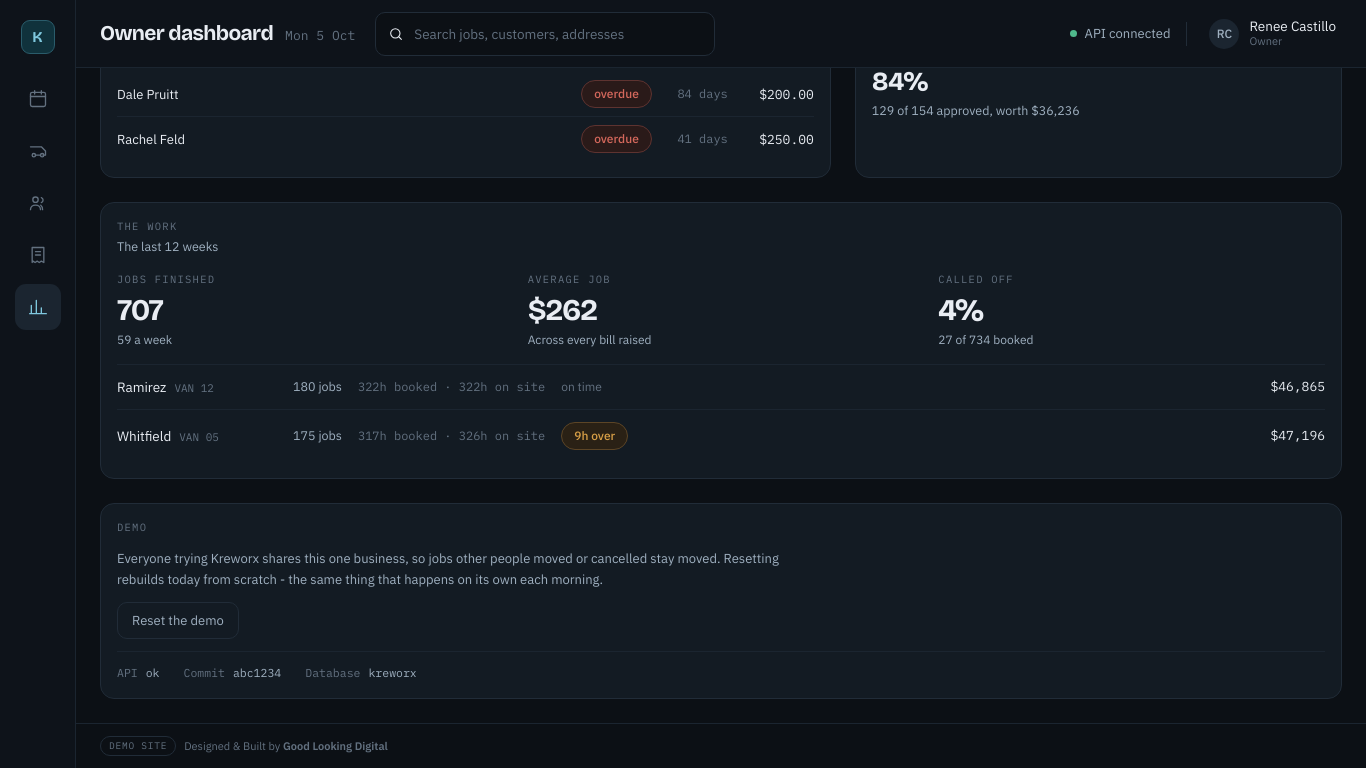
Scenario: the owner's demo reset › asks before throwing away what other people did, then rebuilds
(page scrolled)
Click the button "Reset the demo" at point(178, 621), box [117, 602, 239, 639]
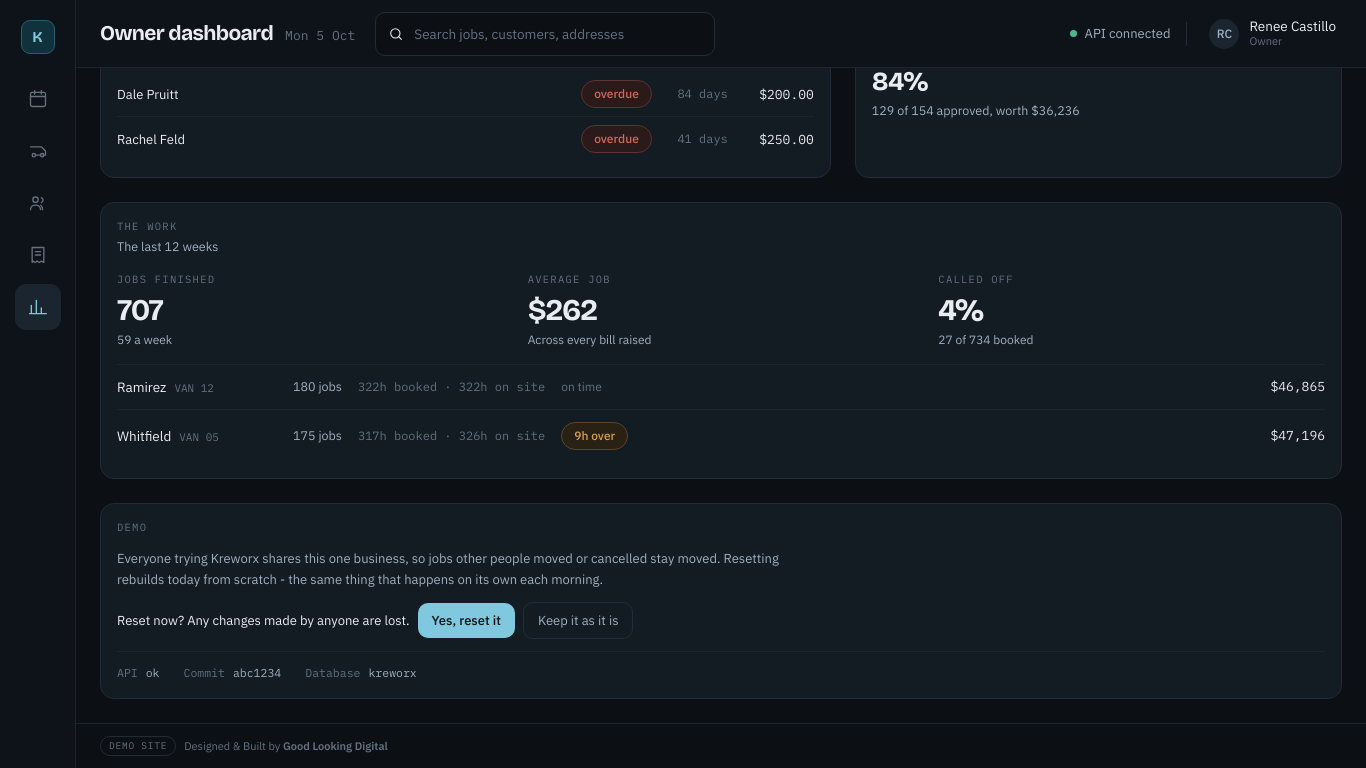
expect the text "Reset now? Any changes made by anyone are lost." is shown: met, box [117, 611, 410, 630]
Click the button "Yes, reset it" at point(466, 621), box [418, 603, 515, 638]
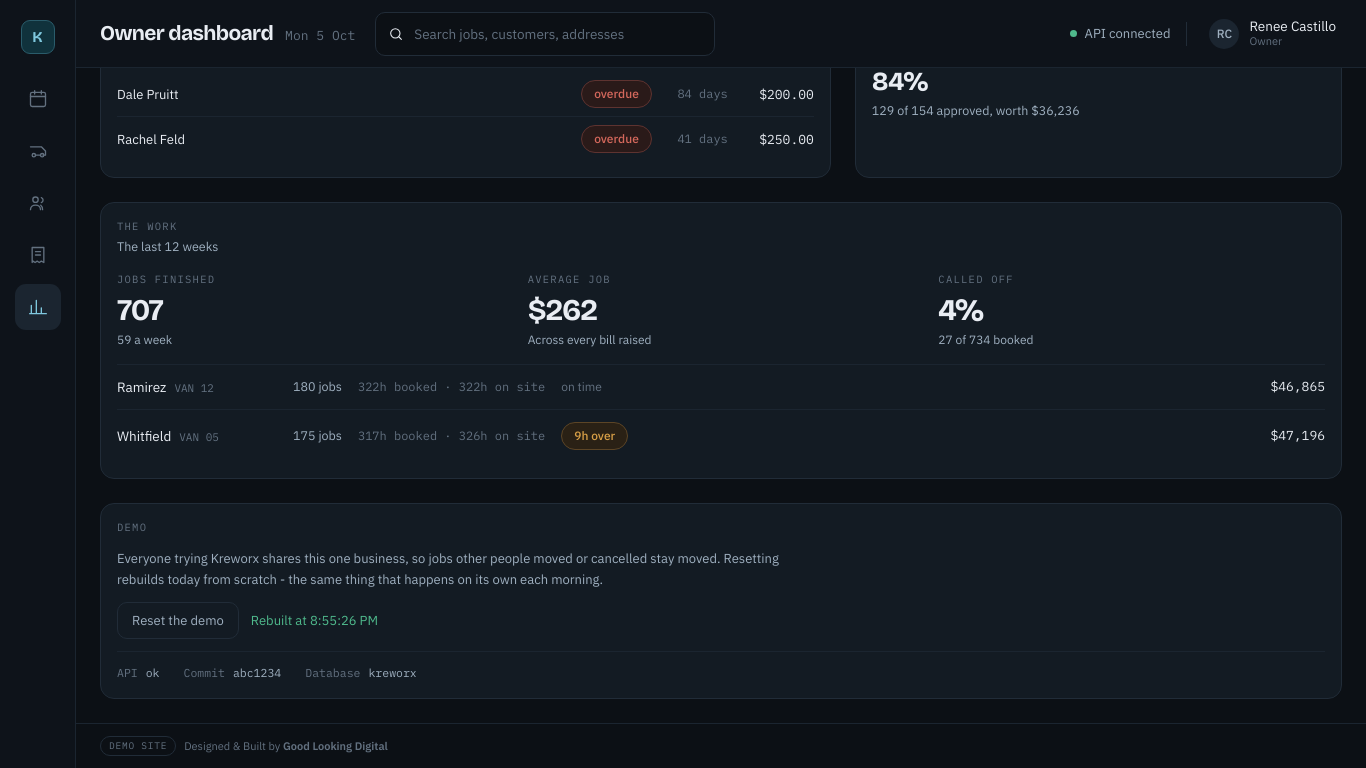
expect the text "Rebuilt at 8:55:26 PM" is shown: met, box [251, 611, 378, 630]
